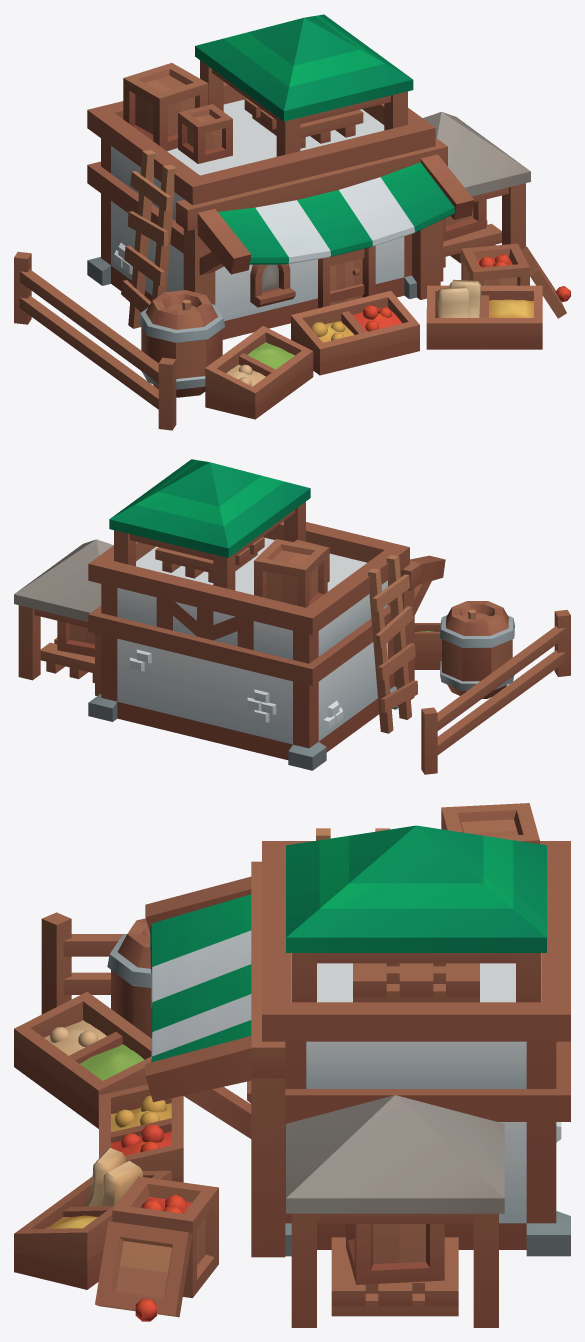
The model's file is kay-mercado-verde.gltf.
3 views of the same model, one above another, from view 1: azimuth 30°, elevation 25°; view 2: azimuth 150°, elevation 25°; view 3: azimuth 270°, elevation 25° (orthographic). The views are drawn at different scales.
Visible parts, largest first — view 1: building_market_green; view 2: building_market_green; view 3: building_market_green.
Part boxes in pixels (left/top/right/bottom): building_market_green: left=14, top=14, right=570, bottom=430; building_market_green: left=14, top=459, right=570, bottom=774; building_market_green: left=14, top=803, right=570, bottom=1327.
Bounding box in the file's own units: 9 × 4.91 × 6.58.
Materials: 1 (1 with a texture image).
